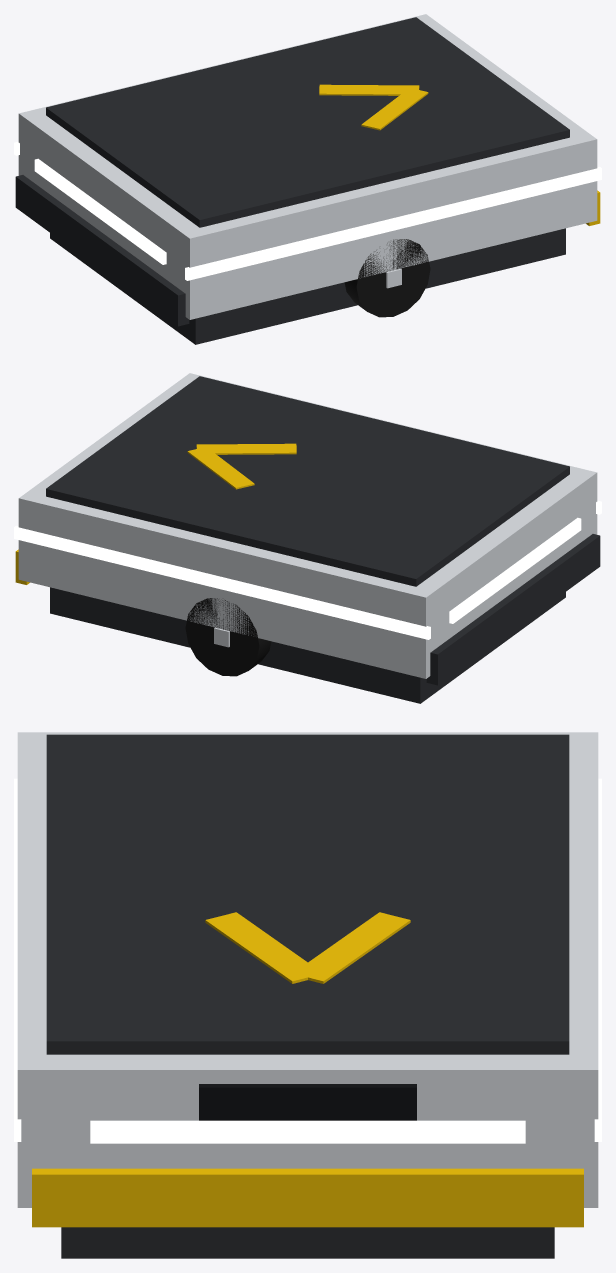
Rendered from agv.glb.
3 views of the same model, one above another, from view 1: azimuth 30°, elevation 25°; view 2: azimuth 150°, elevation 25°; view 3: azimuth 270°, elevation 25° (orthographic). The views are drawn at different scales.
Visible parts, largest first — view 1: chassi, luz, roda_d; view 2: chassi, luz, roda_e; view 3: chassi, luz.
Boxes of the visible parts, x1,y1,x2,y2 form: chassi: (15, 14, 600, 344); luz: (14, 141, 601, 280); roda_d: (344, 239, 430, 317); chassi: (15, 373, 600, 703); luz: (14, 500, 601, 639); roda_e: (185, 598, 271, 676); chassi: (17, 732, 598, 1258); luz: (14, 778, 601, 1143).
Size of the model in its own units: 1.14 by 0.354 by 0.8101.
